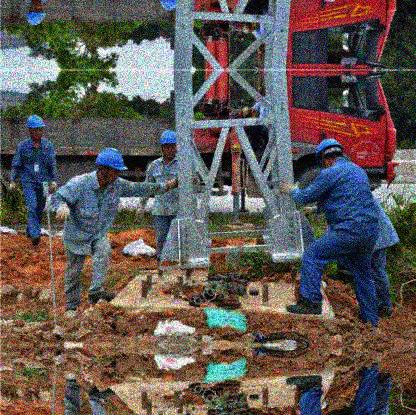helmet: (94, 147, 130, 186), (314, 137, 345, 169), (159, 130, 180, 160), (27, 1, 48, 28), (27, 114, 46, 141)
